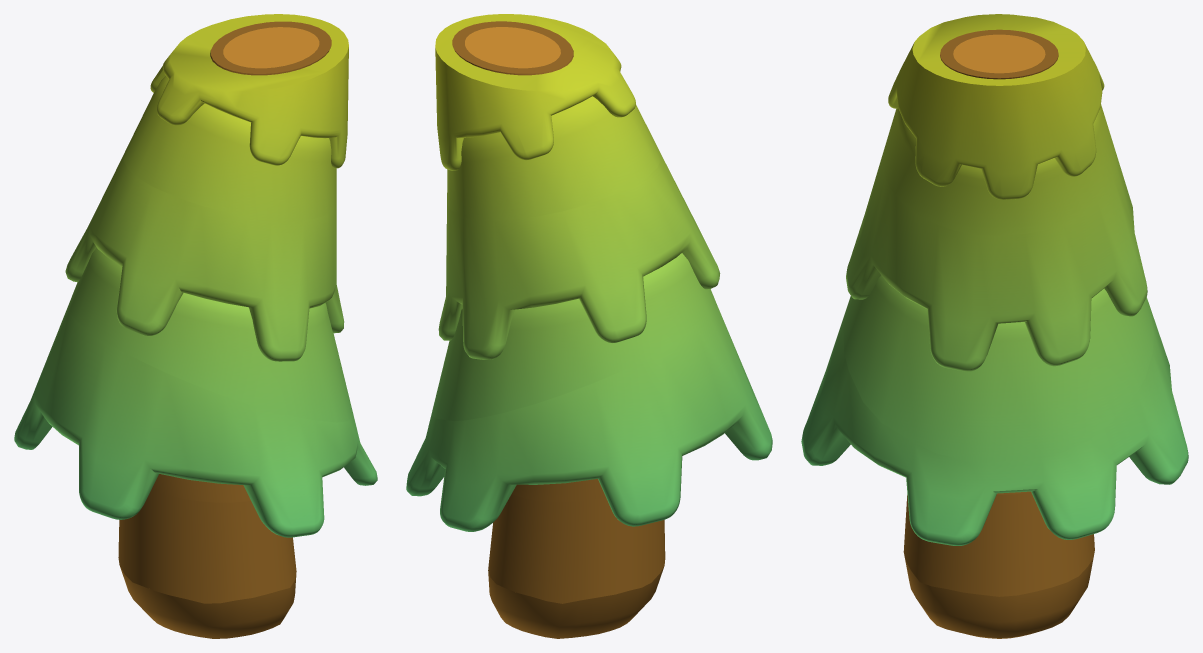
The model's file is tree2 80%.fbx.
3 renders of one model, left to right at view 1: azimuth 30°, elevation 25°; view 2: azimuth 150°, elevation 25°; view 3: azimuth 270°, elevation 25°, orthographic. The views are drawn at different scales.
Visible parts, largest first — view 1: Cylinder.020; view 2: Cylinder.020; view 3: Cylinder.020.
Boxes of the visible parts, x1,y1,x2,y2 form: Cylinder.020: (14,14,377,638); Cylinder.020: (406,14,772,638); Cylinder.020: (801,14,1188,638).
Size of the model in its own units: 79.53 by 141 by 83.63.
